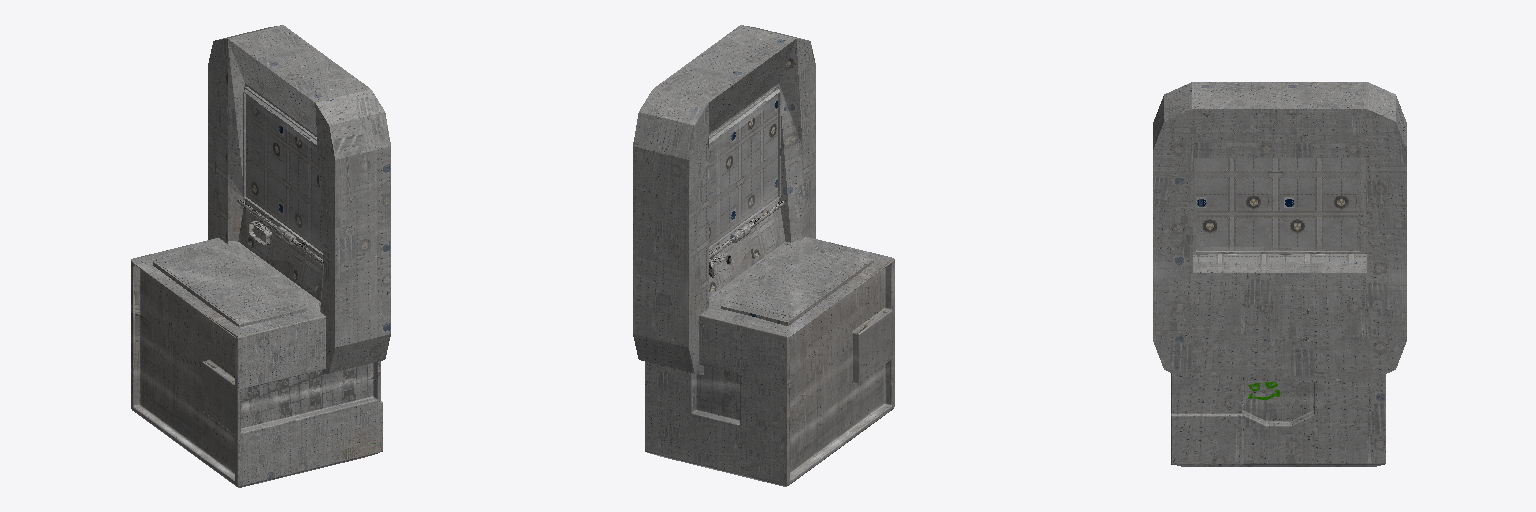
3 views of the same model, side by side, from view 1: azimuth 30°, elevation 25°; view 2: azimuth 150°, elevation 25°; view 3: azimuth 270°, elevation 25° (orthographic).
Parts seen in each view (by area): view 1: Cube.048; view 2: Cube.048; view 3: Cube.048.
Part boxes in pixels (bbox=[...]): Cube.048: bbox=[131, 25, 390, 487]; Cube.048: bbox=[633, 25, 894, 486]; Cube.048: bbox=[1153, 82, 1406, 466].
Size of the model in its own units: 6.5 by 15.48 by 9.85.
1 materials, 1 textured.